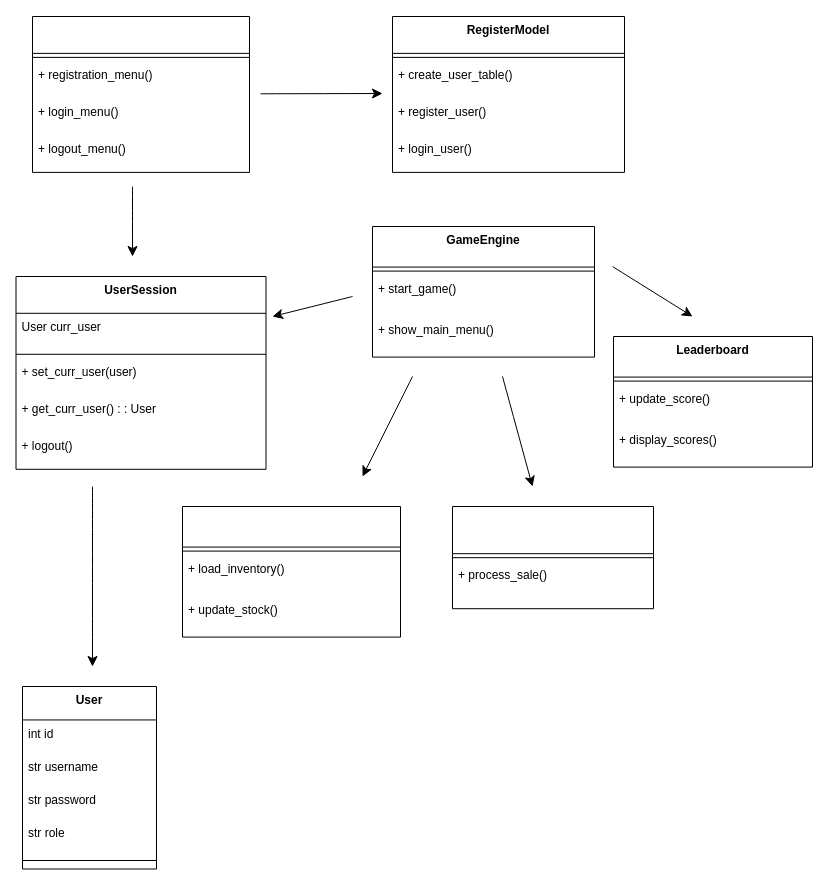
This 829x885 diagram has some shape labels left out. The box of each missing label's shape, as (x1, y1, x2, y2) in pixels:
CheckoutSystem: (452, 506, 654, 609)
ConsoleUI: (32, 16, 250, 172)
InventorySystem: (182, 506, 400, 637)
